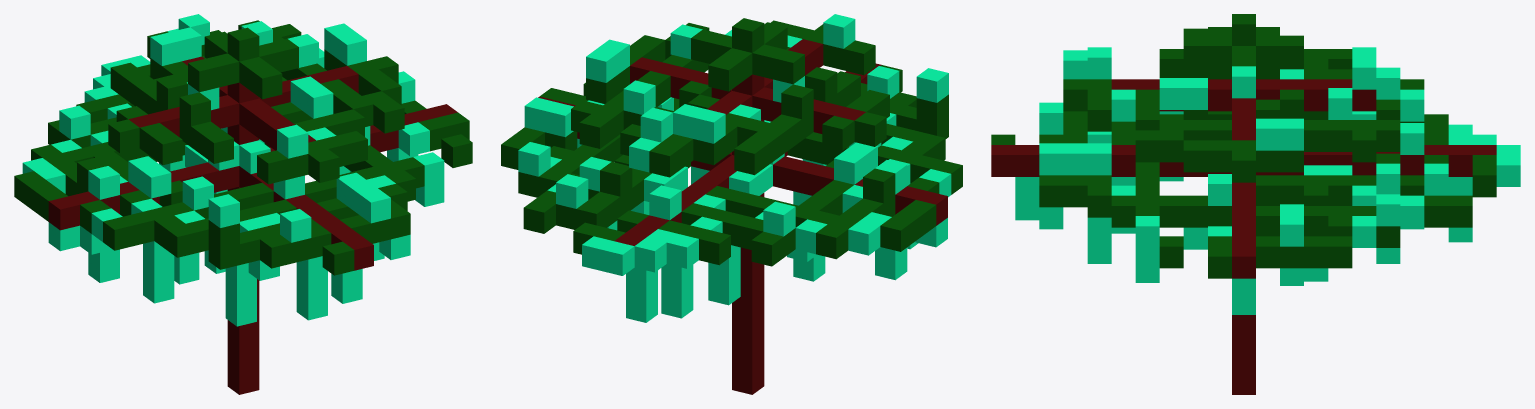
File: gm_tree_0.cube.obj
The picture shows the model from 3 angles, left to right: view 1: azimuth 30°, elevation 25°; view 2: azimuth 150°, elevation 25°; view 3: azimuth 270°, elevation 25°; orthographic projection. The views are drawn at different scales.
Size of the model in its own units: 20 by 17 by 22.
Materials: 1 (1 with a texture image).
